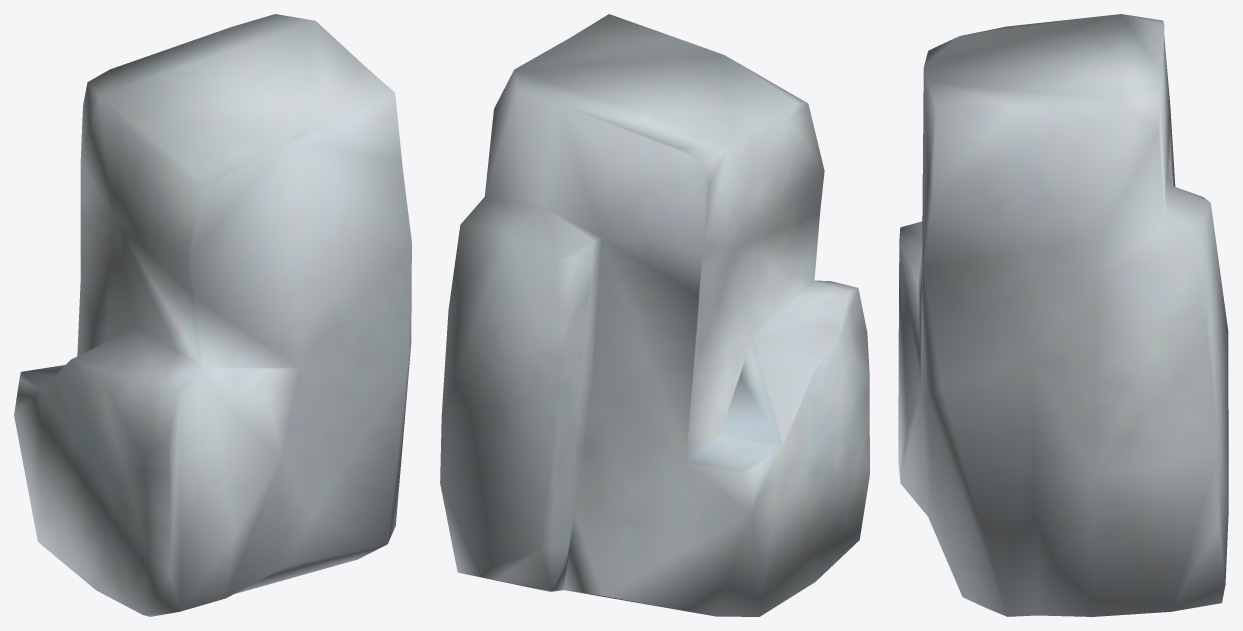
Rendered from P_RockCubic11.obj.
3 renders of one model, left to right at view 1: azimuth 30°, elevation 25°; view 2: azimuth 150°, elevation 25°; view 3: azimuth 270°, elevation 25°, orthographic. The views are drawn at different scales.
Size of the model in its own units: 3.8 by 5.44 by 3.19.
